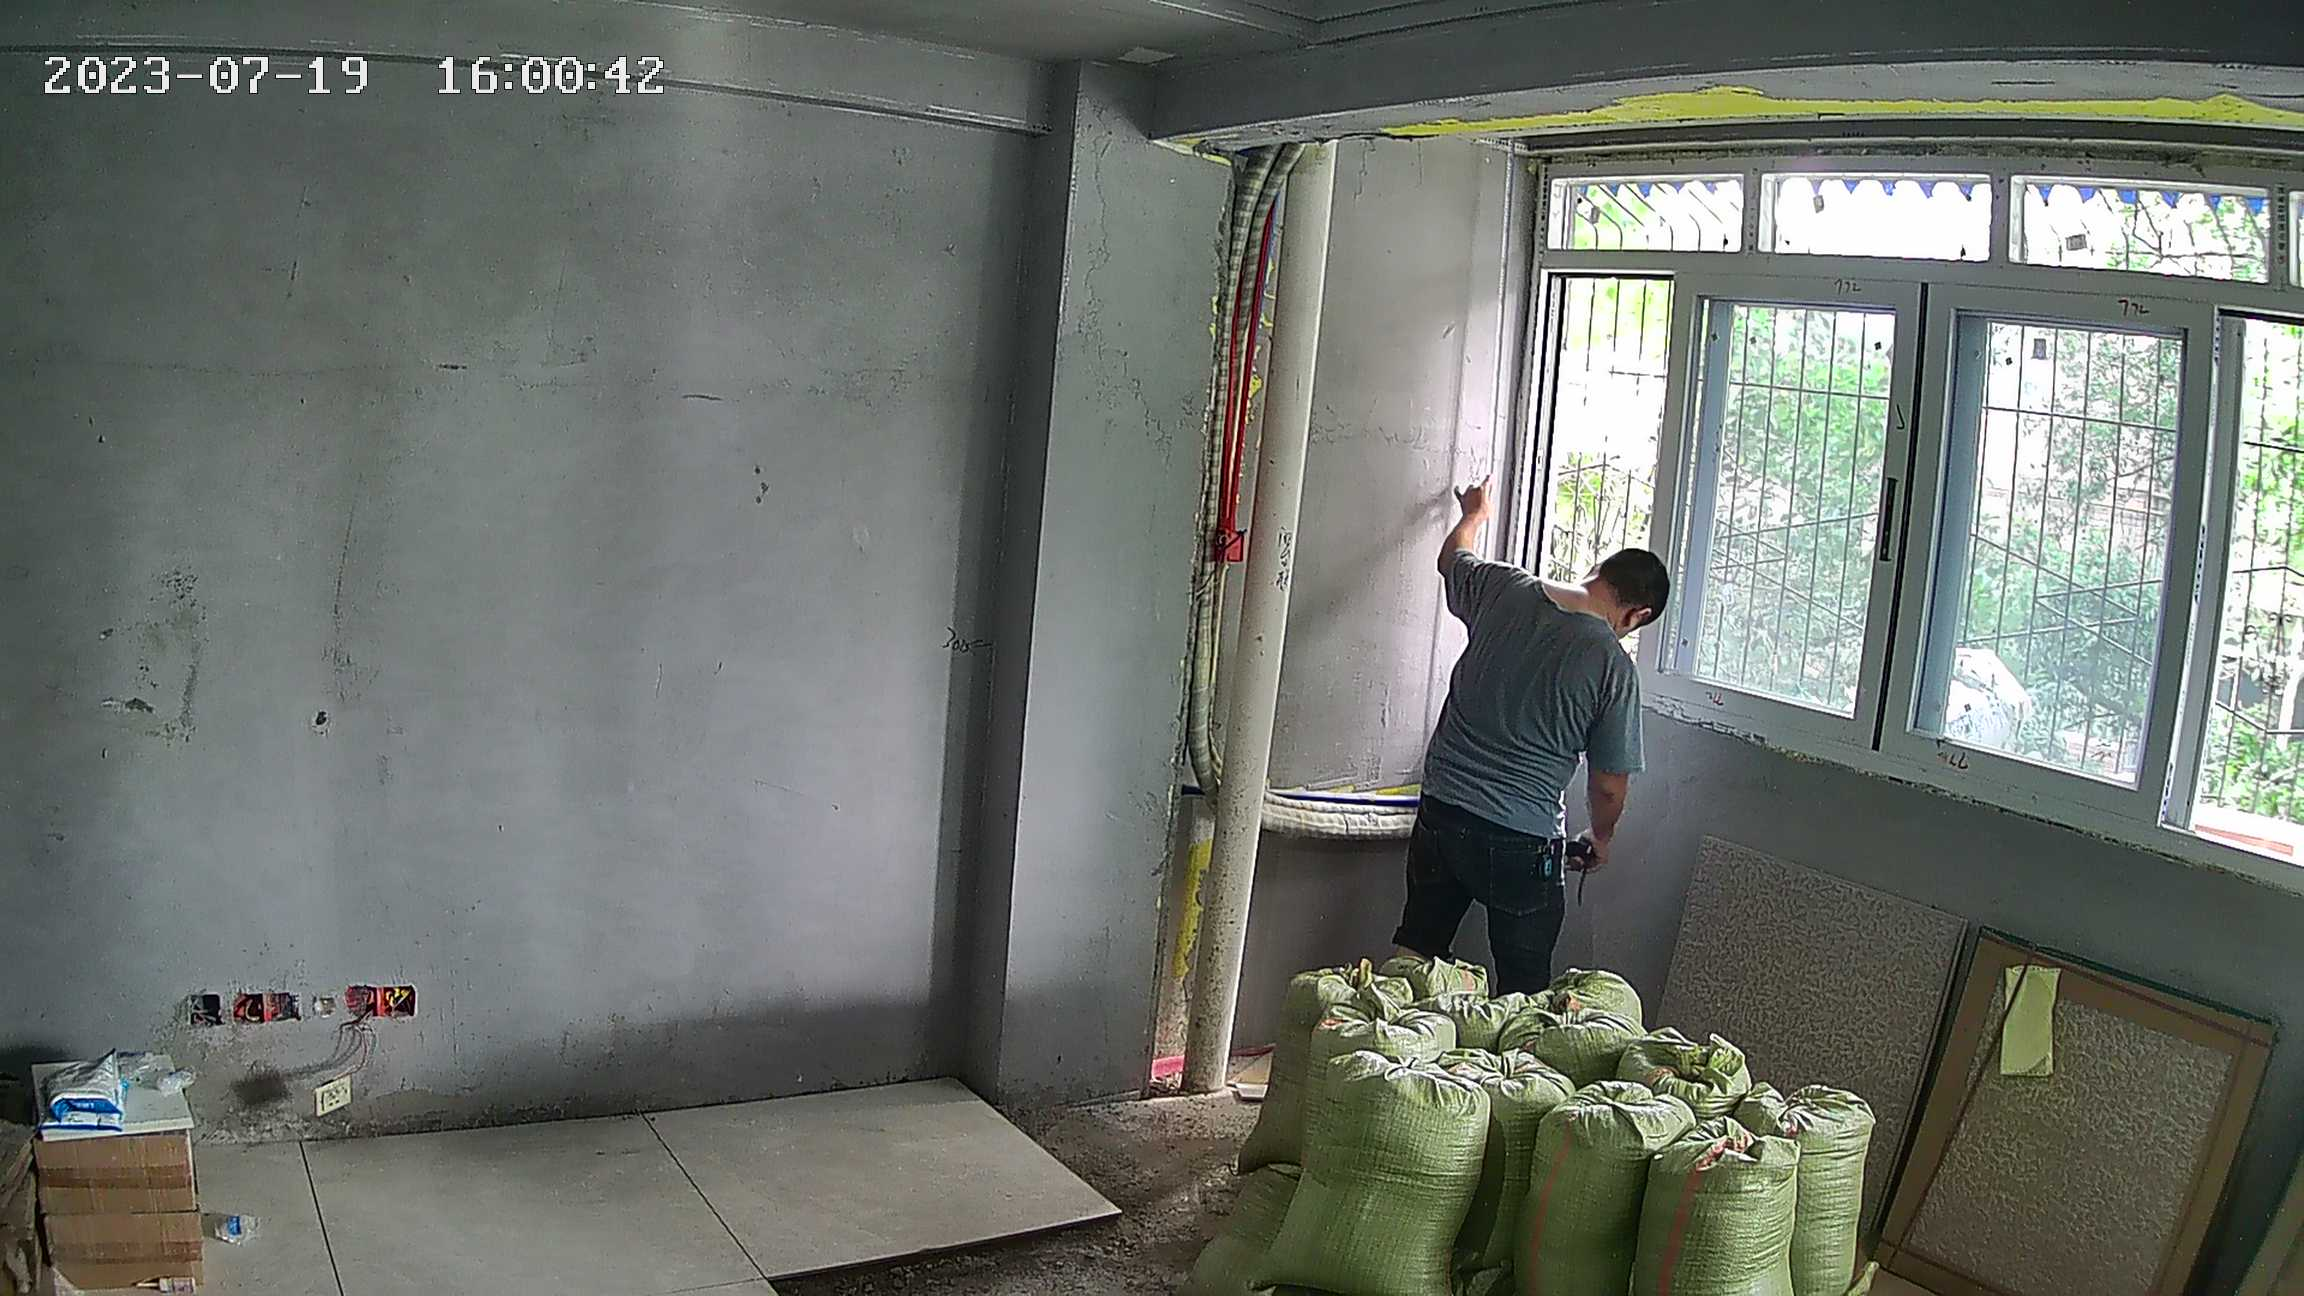people: (1392, 471, 1662, 993)
window: (1530, 167, 2304, 819)
